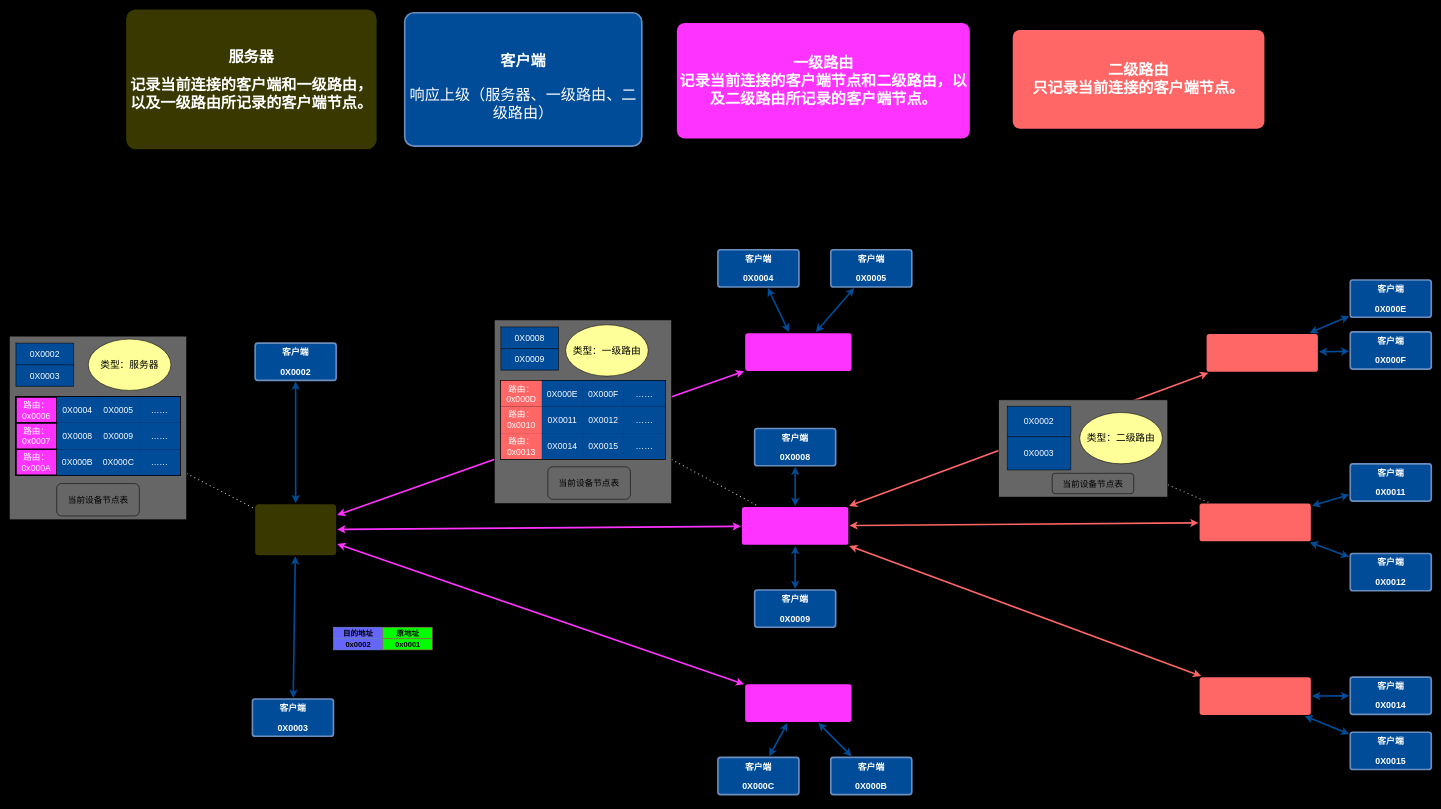
Some shapes in this 1441 by 809 pixel diagram are drawn without their labels. Here are the shapes that lost their labels. From the top down, the box of each, then its label:
(745, 333, 851, 371): 一级路由 Router1 0x0006
(1206, 334, 1318, 372): 二级路由 Router2 0x000D
(255, 504, 336, 555): 服务器 0x0001
(742, 507, 848, 545): 一级路由 Router1 0x0007
(1199, 503, 1311, 541): 二级路由 Router2 0x0010
(745, 684, 851, 722): 一级路由 Router1 0x000A
(1199, 677, 1311, 715): 二级路由 Router2 0x0013
